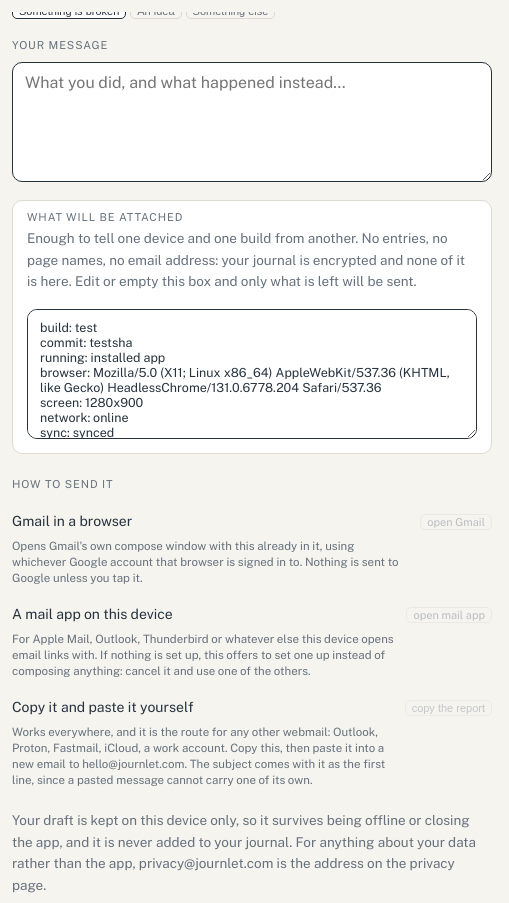
it: what it claims afterwards › editing after sending drops the note, which would now describe the old text
This screenshot has width=509, height=903.
(page scrolled)
Type "a thought" into the text box named "Your message".
click(252, 122); type("a thought")  # box [12, 62, 492, 182]
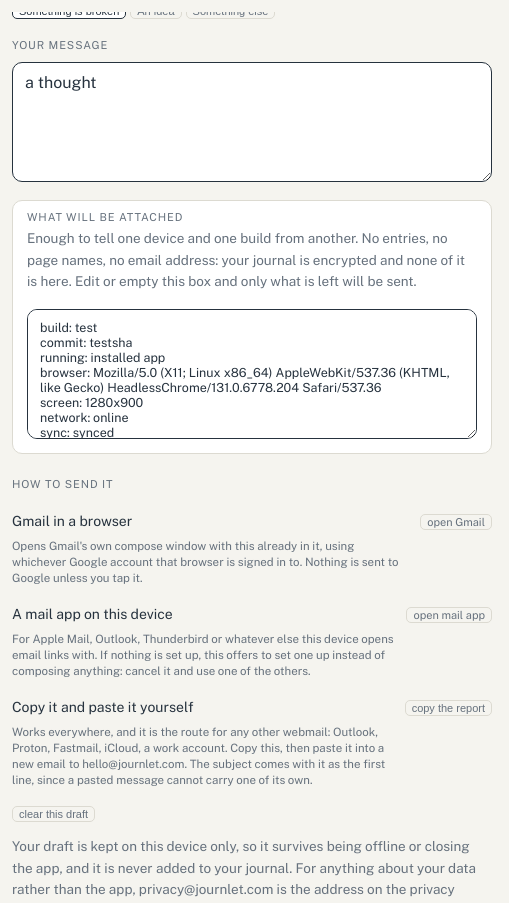
Click the link "open Gmail".
click(456, 522)  # box [420, 514, 492, 530]
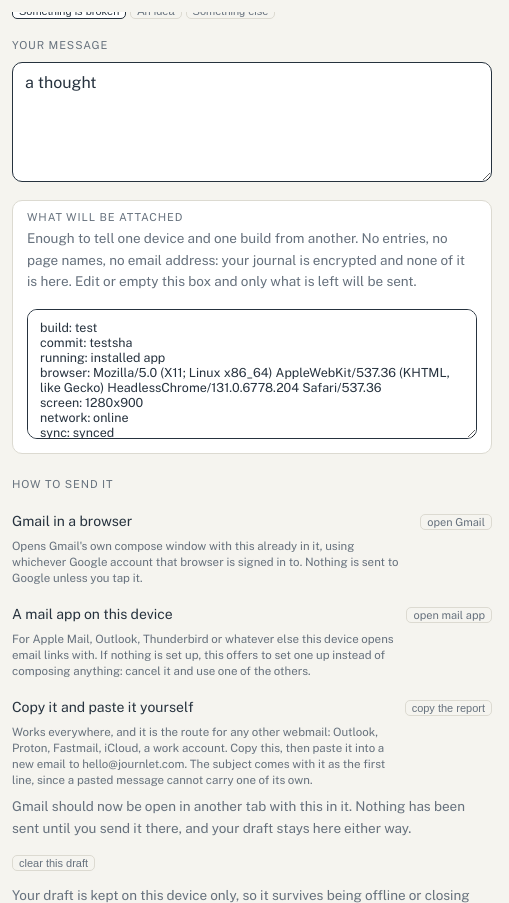
Replace the text in the text box named "Your message" with "a different thought" at (252,122), box [12, 62, 492, 182]
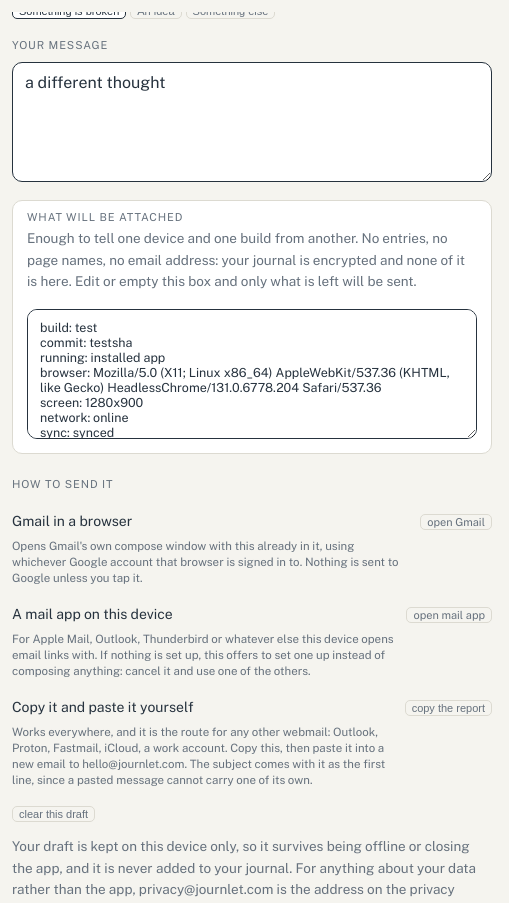
expect the text "Gmail should now be open" is gone: met
